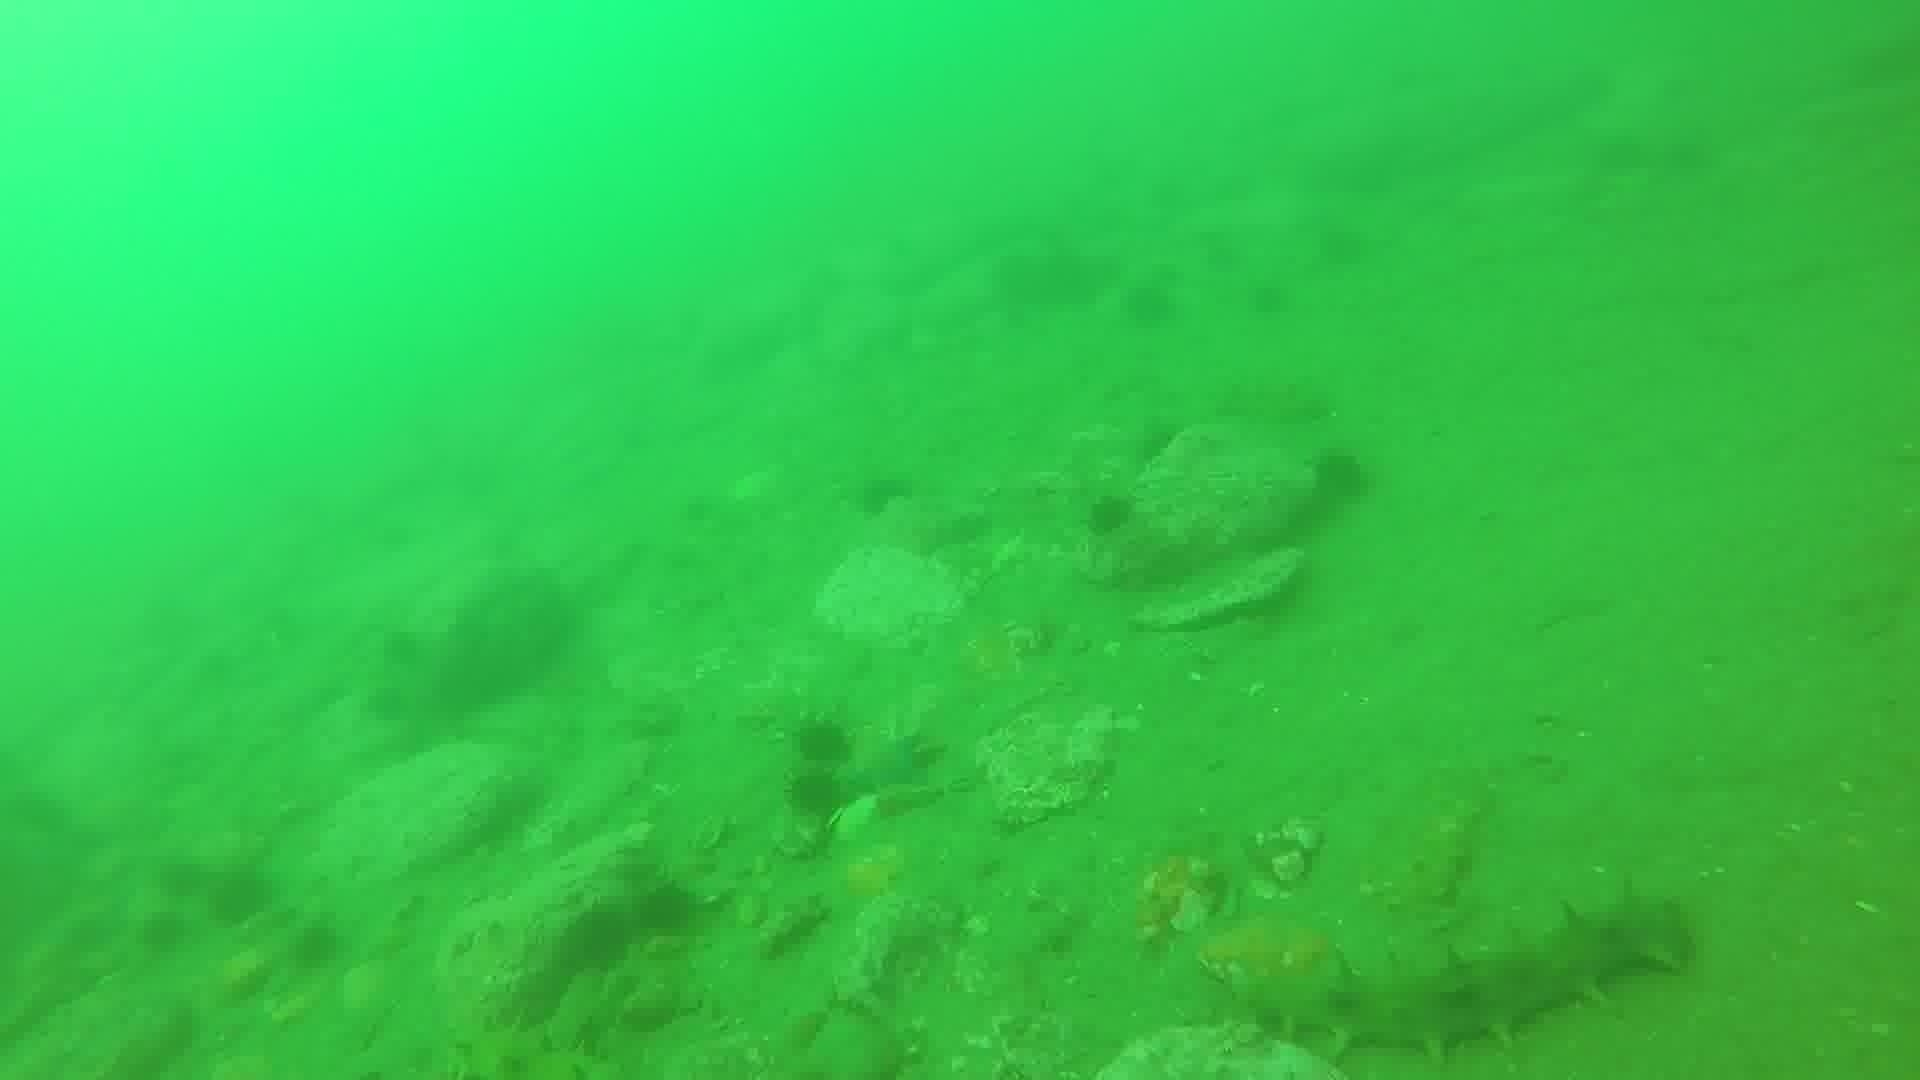echinus: (556, 899, 641, 977), (203, 862, 278, 930), (629, 877, 704, 944), (1303, 444, 1377, 512), (781, 765, 855, 825), (787, 712, 858, 771), (1117, 276, 1182, 334), (1080, 488, 1139, 541)
holothurian: (1222, 877, 1693, 1060)
starfish: (837, 725, 942, 800)
